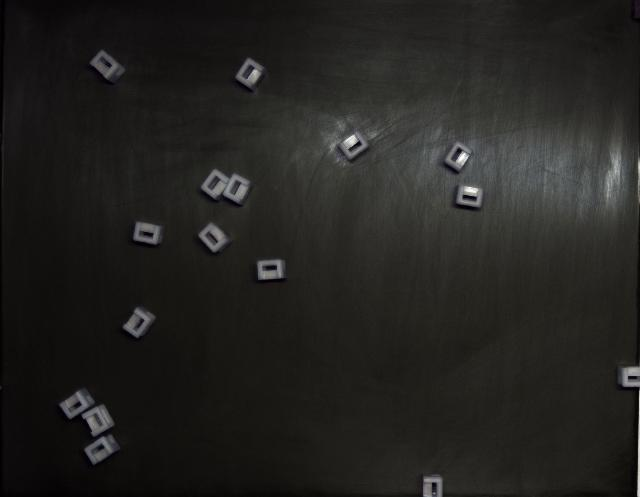fourth_side: (90, 50, 125, 84), (122, 306, 156, 339), (81, 405, 115, 438), (59, 389, 95, 420), (84, 435, 120, 465), (235, 58, 266, 91), (199, 222, 232, 253), (222, 174, 252, 205), (339, 131, 369, 160), (444, 141, 472, 172), (132, 221, 165, 245), (456, 185, 484, 208), (258, 260, 286, 281)
